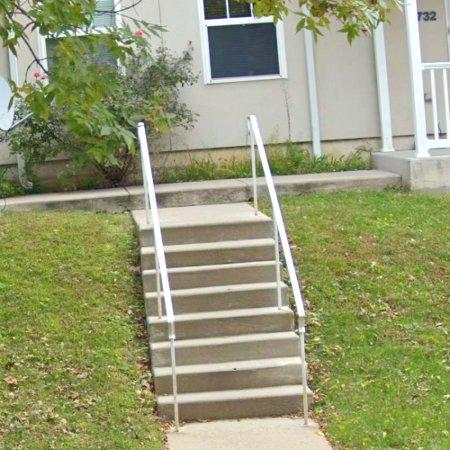stairs: (134, 211, 173, 420)
